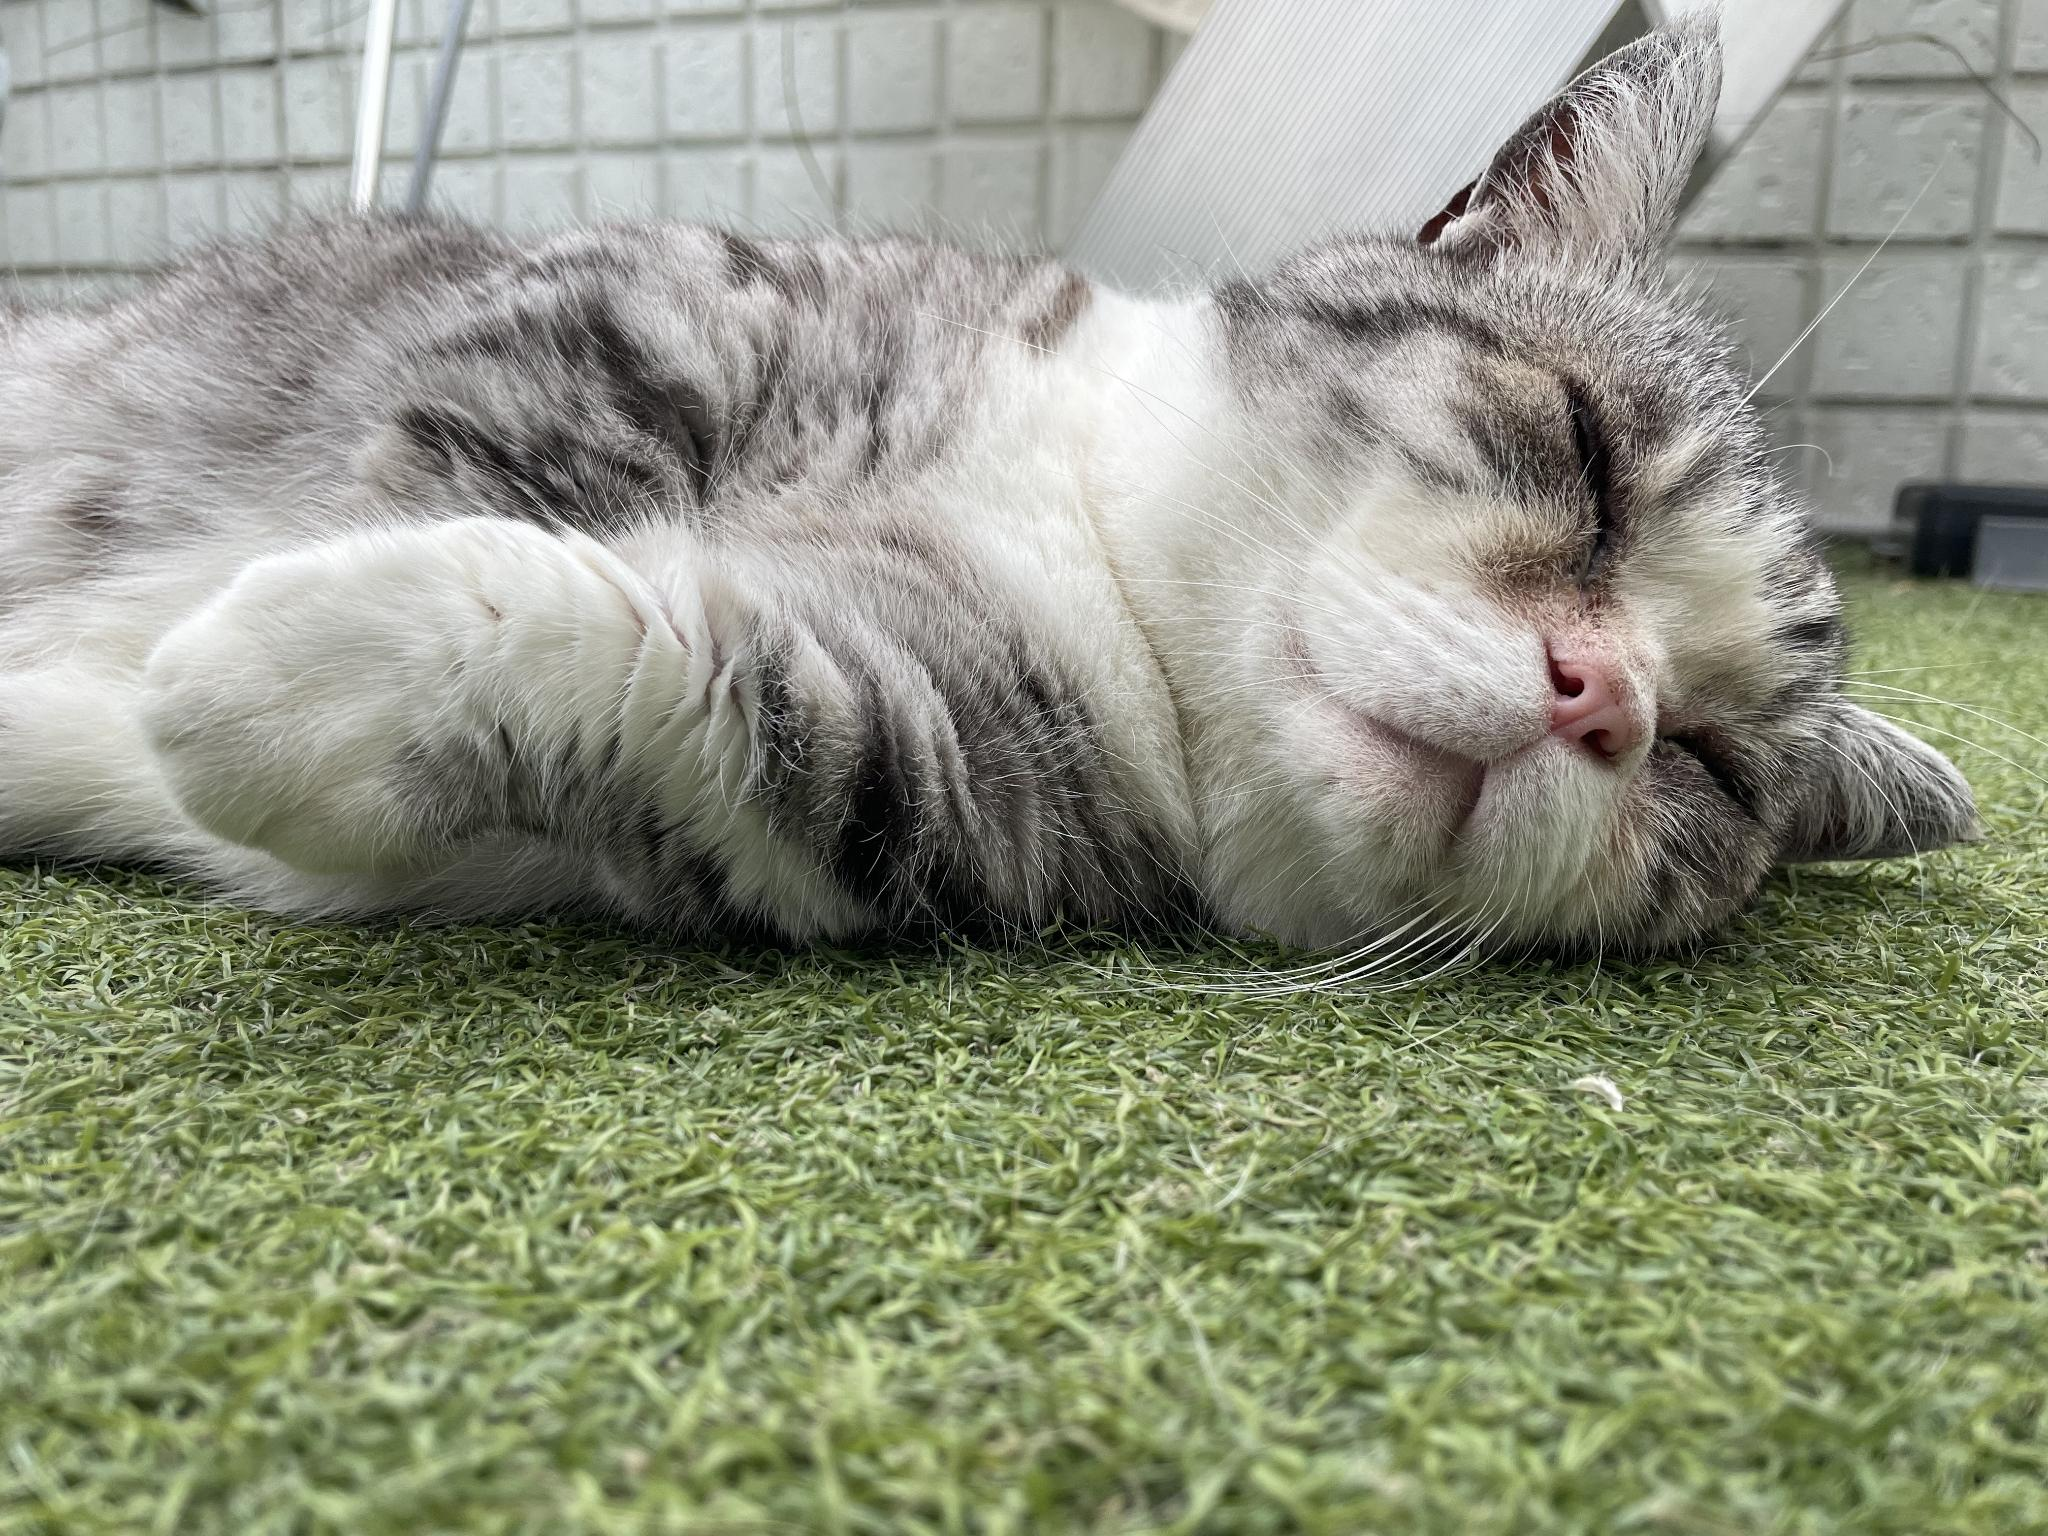cat: (2, 3, 2001, 1000)
